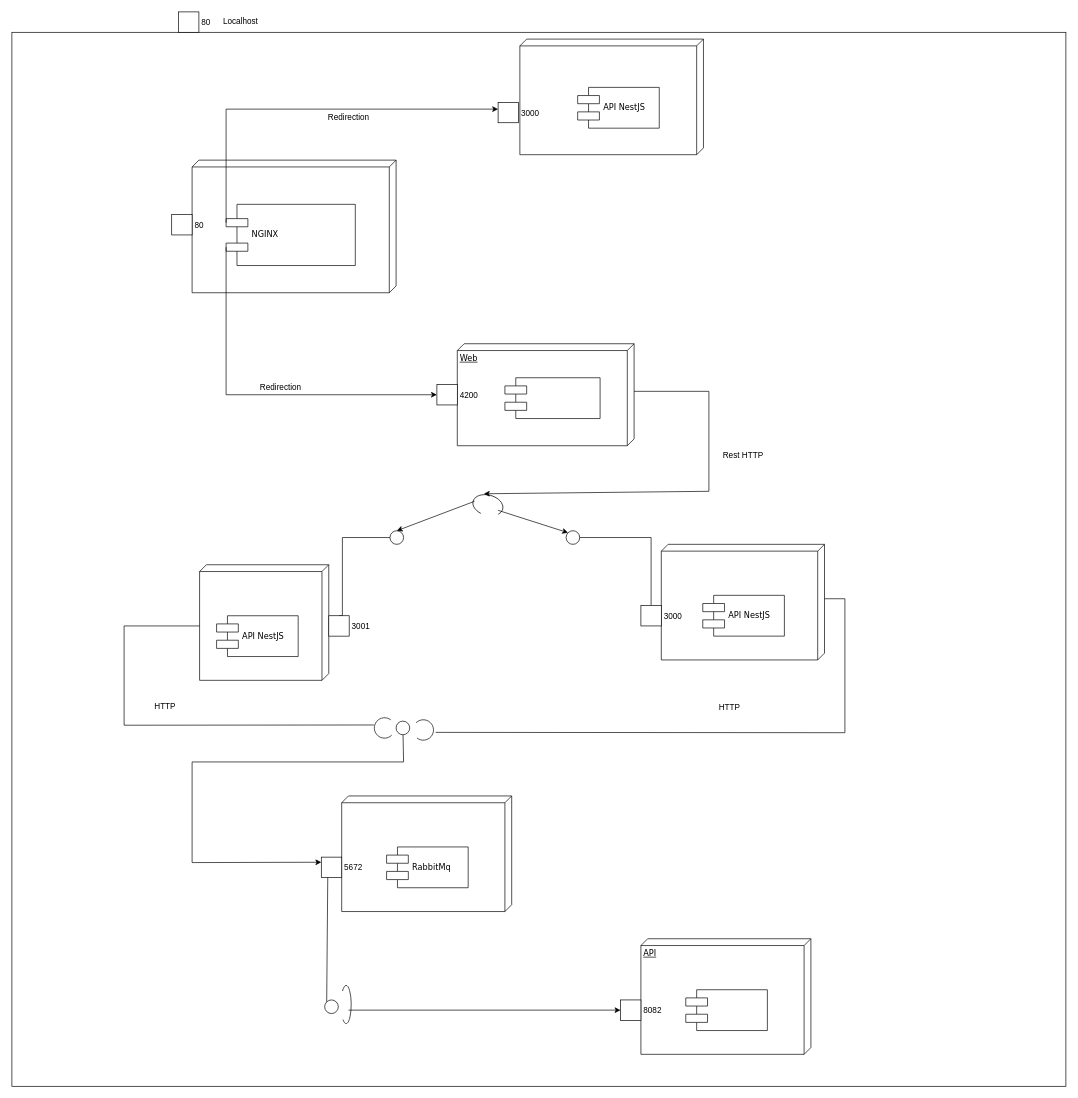
This 1078x1098 diagram has some shape labels left out. The shapes that lost their labels are listed below. From the top down, each one's box as (x1, y1, x2, y2) in pixels, then its label:
(519, 38, 703, 155): Swagger UI
(191, 159, 396, 293): Get WAY
(504, 377, 600, 419): Front Angular
(199, 564, 329, 680): Message Manager
(661, 544, 825, 660): Numersiation des associations
(341, 795, 512, 912): MOM
(685, 989, 767, 1031): Quarkus
